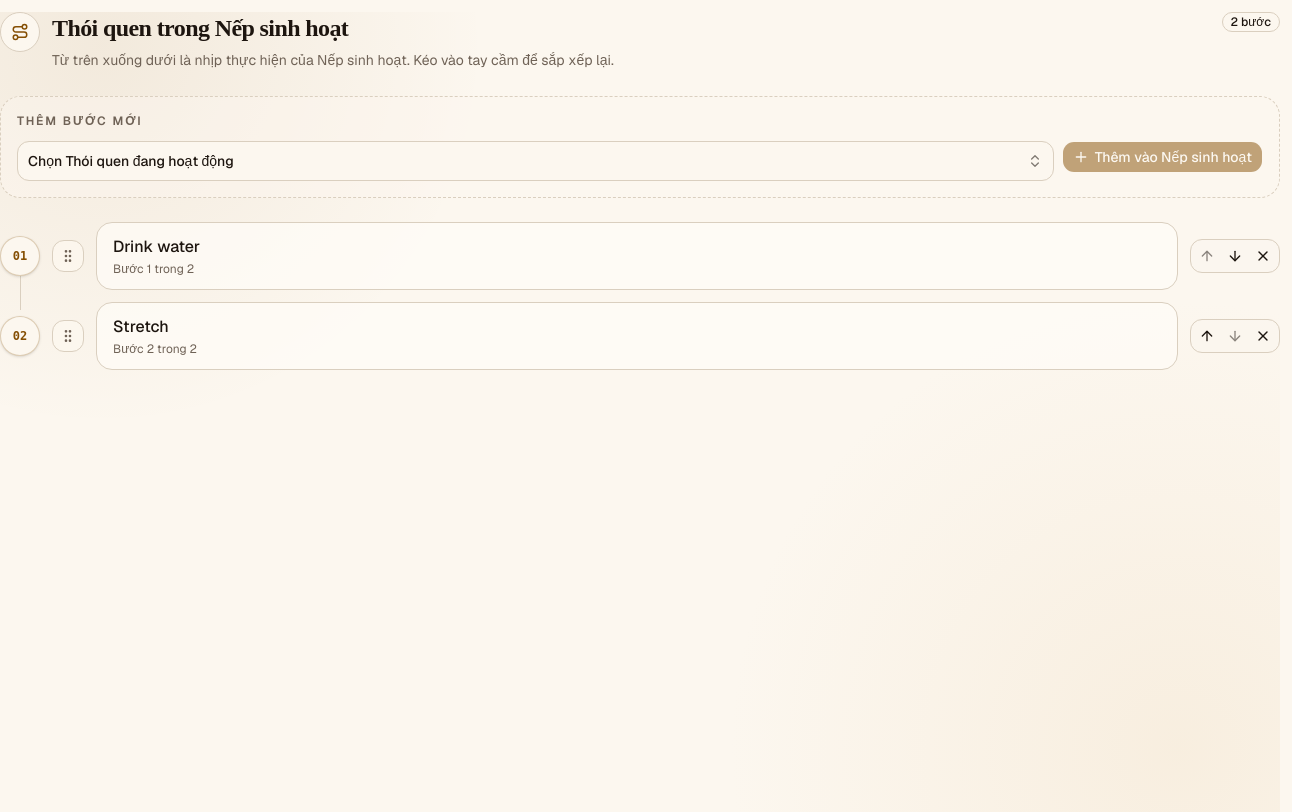
Test case: RoutineHabitManager › shows an explicit message for a stale revision
The width and height of the screenshot is (1292, 812).
What coordinates should you click on to do the following:
click the button named "Di chuyển Drink water xuống"
I would click on:
 (1235, 256)
Its box is [1221,242,1249,270].
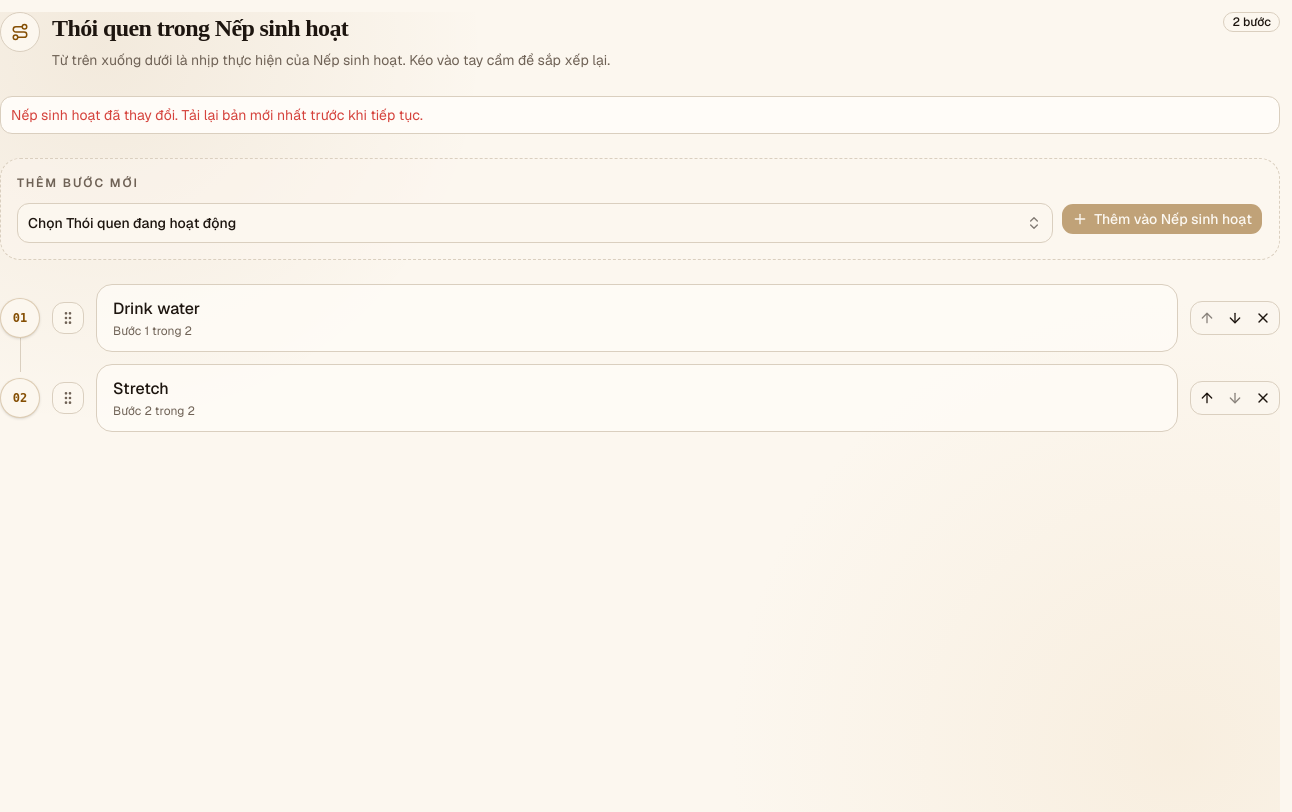
Expected: the text "Nếp sinh hoạt đã thay đổi. Tải lại bản mới nhất trước khi tiếp tục." is shown, [11,106,423,124]
